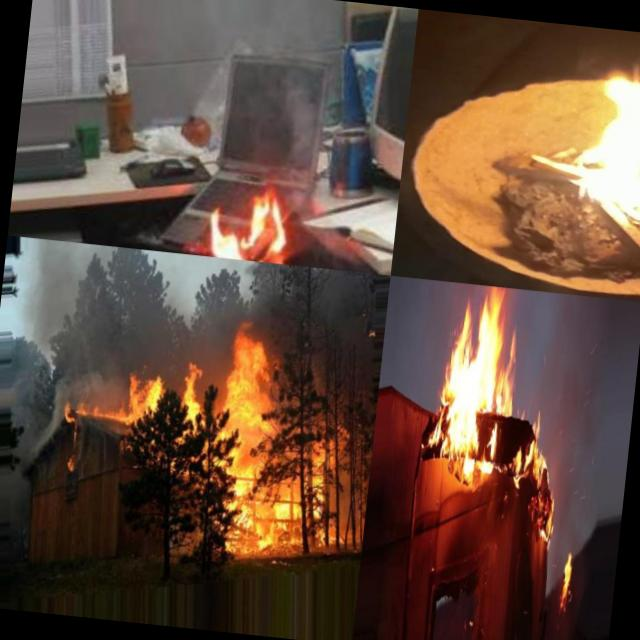fire: (427, 283, 527, 482), (210, 322, 290, 562), (266, 414, 352, 562), (568, 67, 640, 237), (503, 407, 568, 542), (203, 188, 293, 264), (124, 358, 172, 432), (177, 346, 212, 424), (61, 402, 127, 434), (556, 536, 579, 612), (64, 445, 78, 478)
smoke: (9, 237, 192, 363), (262, 48, 346, 200), (286, 266, 376, 384), (182, 255, 238, 352), (50, 350, 132, 409), (234, 260, 296, 328), (8, 347, 54, 435), (20, 433, 47, 472), (46, 401, 63, 436)
